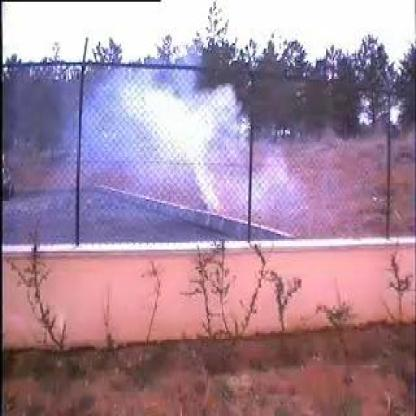-: (82, 64, 294, 219)
